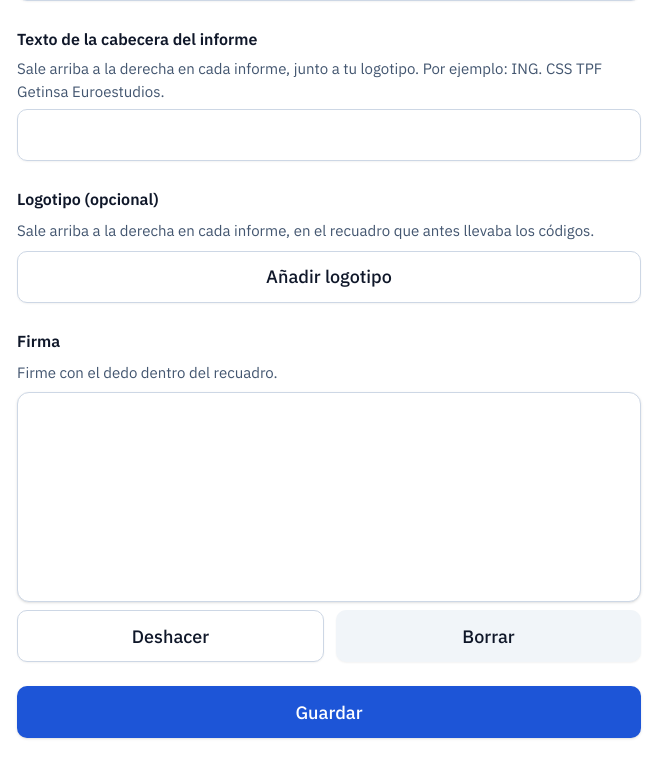
Test case: PerfilPage › muestra un error y no guarda si faltan los campos obligatorios
The width and height of the screenshot is (659, 778).
(page scrolled)
Step 1. Click the button "Guardar" → (329, 712), box [17,686,641,738]
(page scrolled)
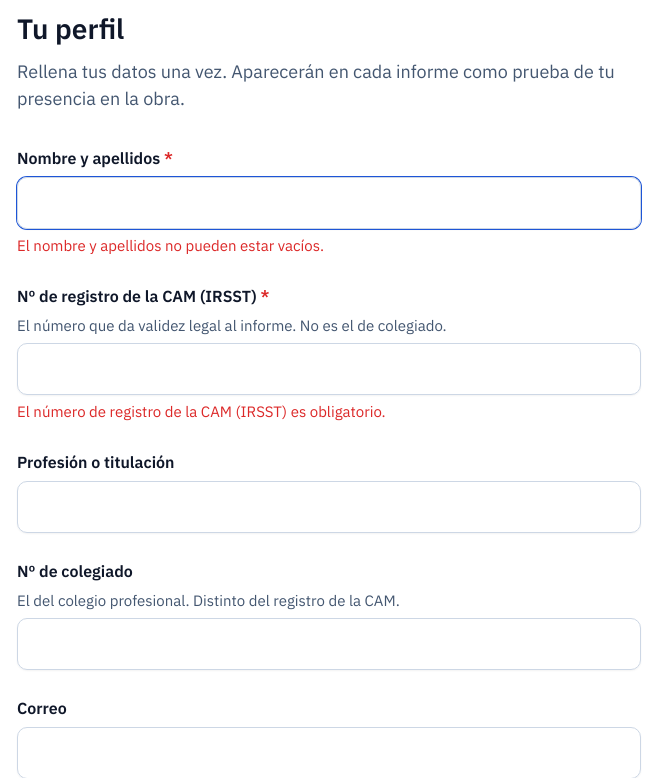
Result: the text "El número de registro de la CAM (IRSST) es obligatorio." is shown at [17,402,386,421]
